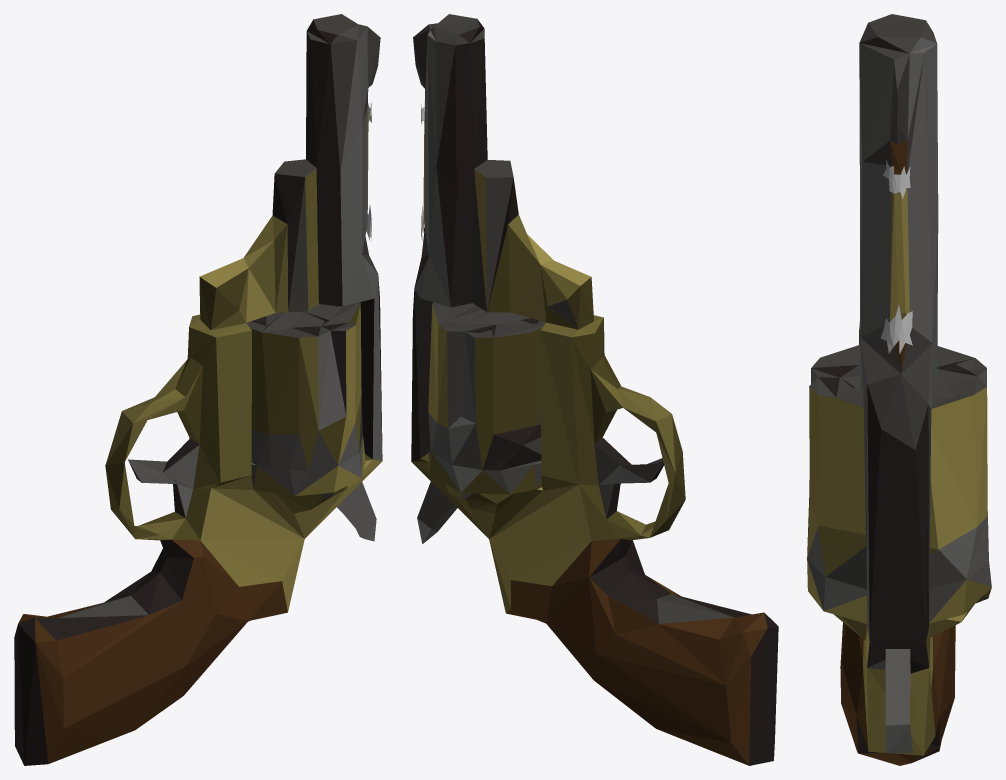
Rendered from aiwpn_revolver.glb.
The picture shows the model from 3 angles, left to right: view 1: azimuth 30°, elevation 25°; view 2: azimuth 150°, elevation 25°; view 3: azimuth 270°, elevation 25°; orthographic projection. The views are drawn at different scales.
Parts seen in each view (by area): view 1: ca_aiwpn_revolver; view 2: ca_aiwpn_revolver; view 3: ca_aiwpn_revolver.
Boxes of the visible parts, x1,y1,x2,y2 form: ca_aiwpn_revolver: [14, 14, 382, 765]; ca_aiwpn_revolver: [411, 14, 778, 765]; ca_aiwpn_revolver: [807, 14, 991, 765].
Size of the model in its own units: 0.3509 by 0.6206 by 0.1162.
